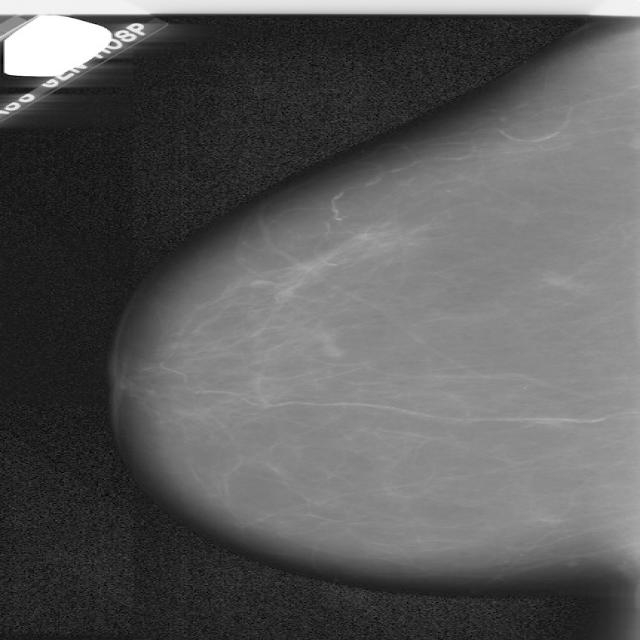tumour: (538, 268, 578, 290)
